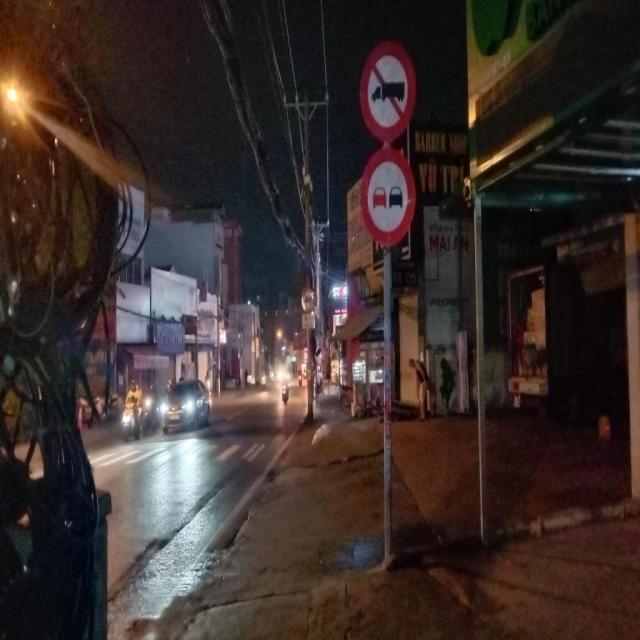106-cam-oto-tai: (302, 287, 315, 312)
125-cam-vuot: (359, 148, 416, 248)
